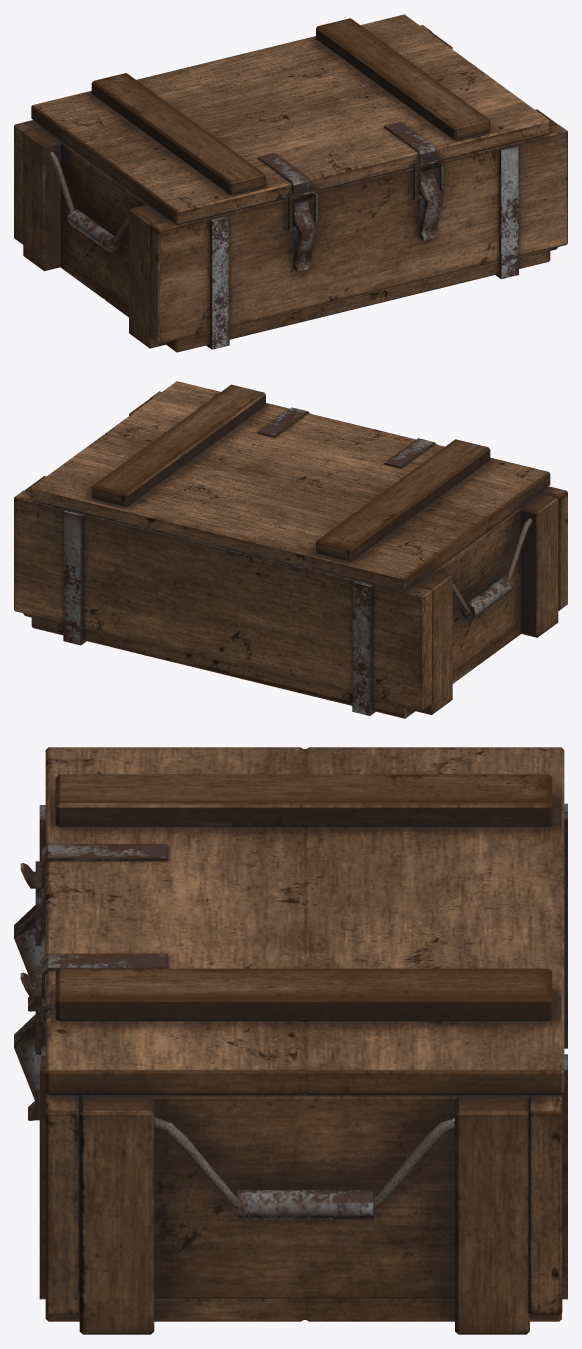
Rendered from wooden_box.glb.
3 views of the same model, one above another, from view 1: azimuth 30°, elevation 25°; view 2: azimuth 150°, elevation 25°; view 3: azimuth 270°, elevation 25° (orthographic). The views are drawn at different scales.
Visible parts, largest first — view 1: polySurface12, polySurface14, polySurface19, polySurface30, polySurface4, polySurface8, polySurface32, polySurface34, polySurface27, polySurface29, polySurface3, polySurface24 (+6 smaller); view 2: polySurface12, polySurface3, polySurface4, polySurface19, polySurface30, polySurface8, polySurface34, polySurface32, polySurface27, polySurface29, polySurface14, pCylinder2 (+3 smaller); view 3: polySurface12, polySurface4, polySurface19, polySurface30, polySurface6, polySurface18, polySurface14, polySurface3, polySurface8, pCylinder1, polySurface27, pPlane4 (+5 smaller).
Boxes of the visible parts, x1,y1,x2,y2 form: polySurface12: [31, 14, 550, 224]; polySurface14: [150, 124, 567, 344]; polySurface19: [316, 18, 490, 140]; polySurface30: [91, 73, 265, 194]; polySurface4: [41, 126, 168, 304]; polySurface8: [60, 249, 550, 352]; polySurface32: [23, 127, 60, 271]; polySurface34: [129, 204, 166, 348]; polySurface27: [496, 145, 518, 279]; polySurface29: [206, 216, 229, 349]; polySurface3: [14, 25, 431, 244]; polySurface24: [419, 178, 443, 240]; polySurface12: [31, 381, 550, 591]; polySurface3: [14, 490, 431, 710]; polySurface4: [413, 493, 539, 671]; polySurface19: [91, 384, 265, 506]; polySurface30: [316, 439, 490, 561]; polySurface8: [31, 615, 521, 718]; polySurface34: [520, 494, 558, 637]; polySurface32: [415, 571, 452, 714]; polySurface27: [63, 511, 86, 645]; polySurface29: [352, 581, 375, 715]; polySurface14: [150, 391, 567, 610]; pCylinder2: [461, 576, 513, 619]; polySurface12: [45, 747, 564, 1094]; polySurface4: [79, 1093, 529, 1299]; polySurface19: [55, 968, 552, 1021]; polySurface30: [55, 774, 552, 827]; polySurface6: [79, 1097, 154, 1334]; polySurface18: [455, 1097, 529, 1334]; polySurface14: [45, 1092, 79, 1314]; polySurface3: [528, 1094, 562, 1314]; polySurface8: [45, 1298, 561, 1321]; pCylinder1: [237, 1190, 373, 1219]; polySurface27: [39, 1054, 567, 1299]; pPlane4: [154, 1117, 454, 1209].
Bounding box in the file's own units: 0.7388 × 0.2718 × 0.4866.
Materials: 1 (1 with a texture image).
